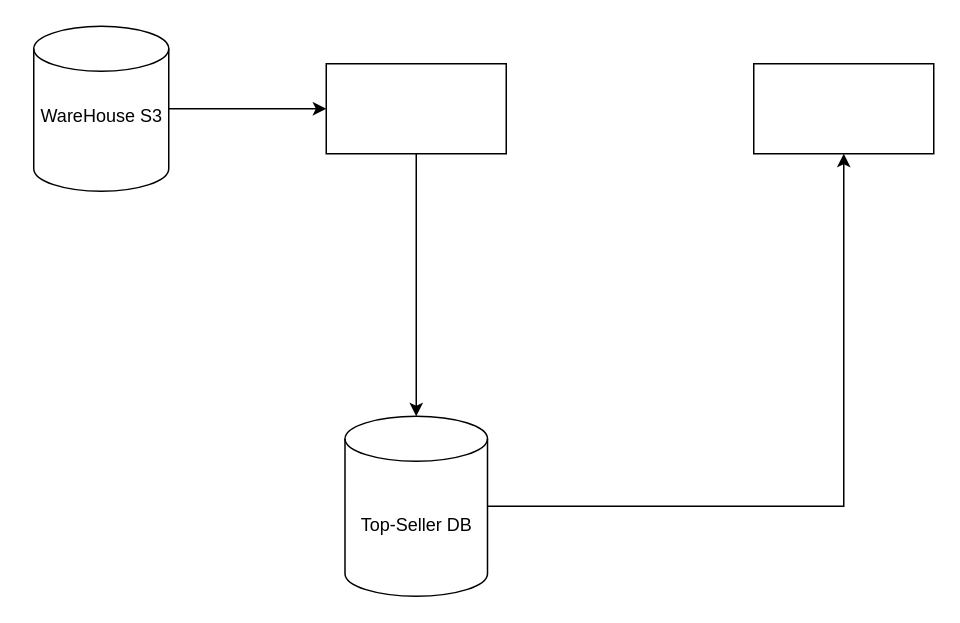
This 960x623 diagram has some shape labels left out. Here are the shapes that lost their labels. From the top down, the centre of each, then its label:
pixel 415 108: Batch Job
pixel 843 108: Website
